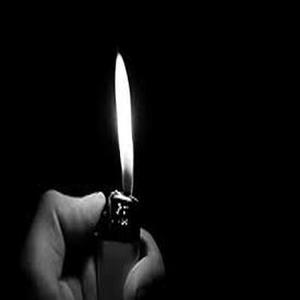fire: (114, 53, 136, 196)
